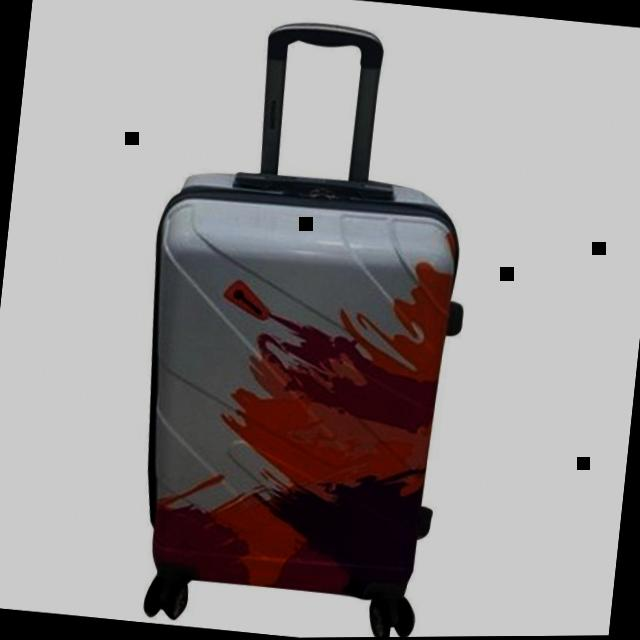luggage: (108, 150, 479, 626)
